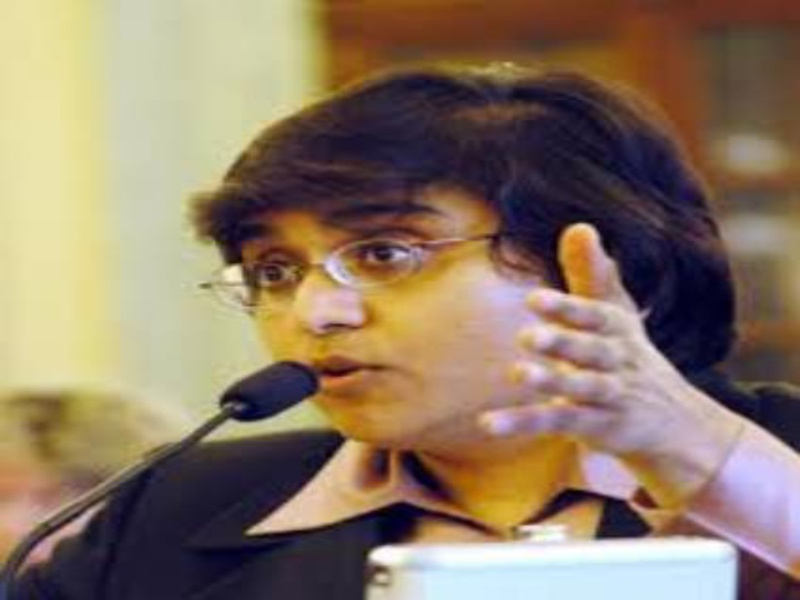TsisyArotava: (163, 81, 640, 487)
